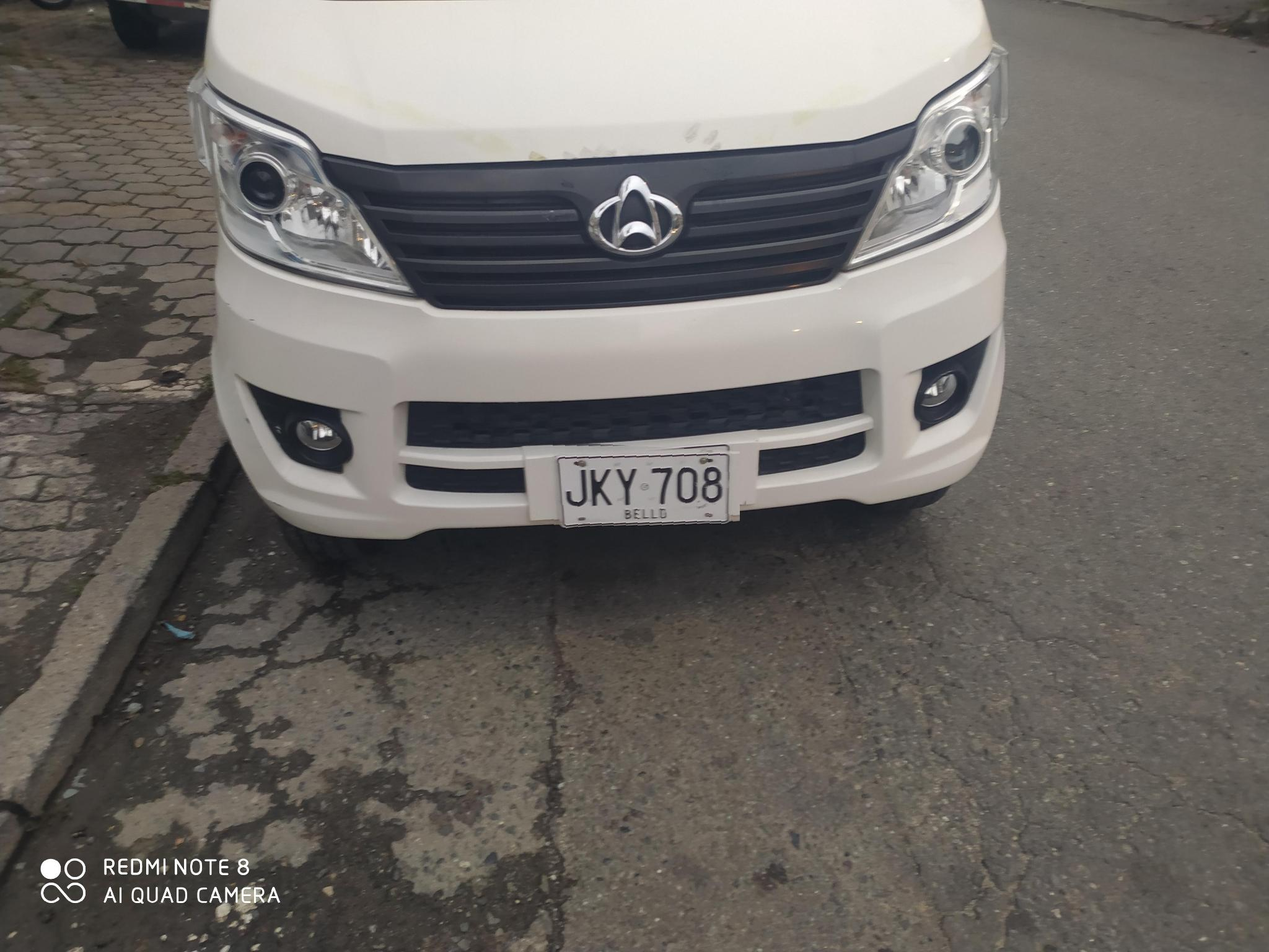placa: (547, 441, 740, 531)
